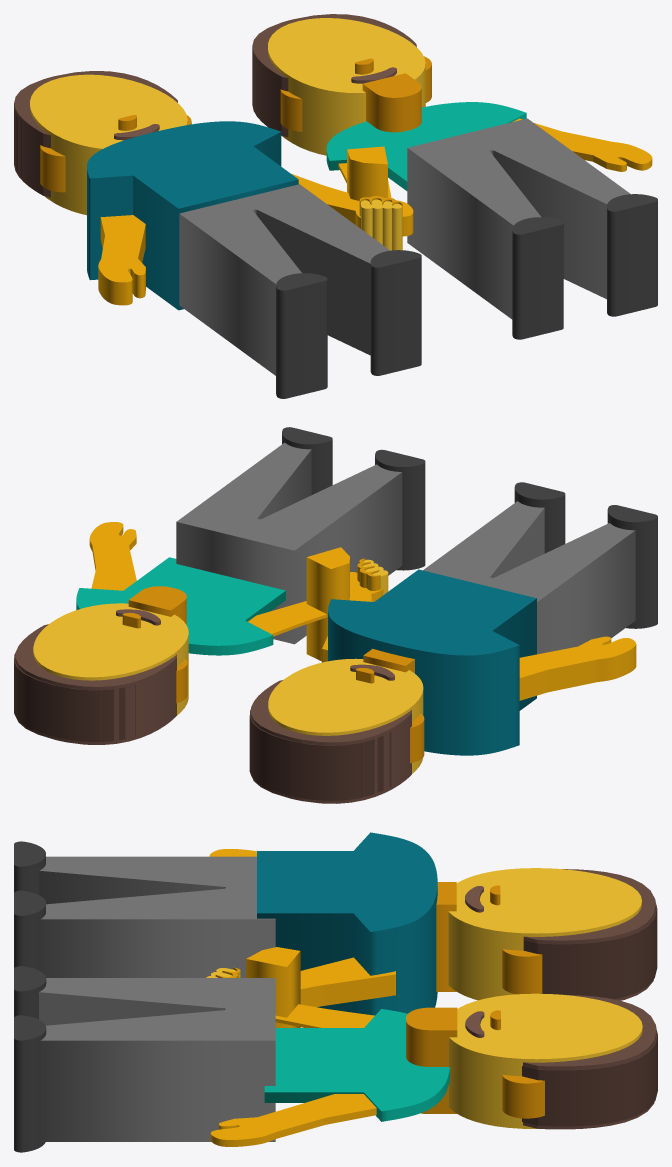
The model's file is emoji_u1f46c.glb.
3 renders of one model, top to bottom at view 1: azimuth 30°, elevation 25°; view 2: azimuth 150°, elevation 25°; view 3: azimuth 270°, elevation 25°, orthographic. The views are drawn at different scales.
Visible parts, largest first — view 1: emoji_u1f46c; view 2: emoji_u1f46c; view 3: emoji_u1f46c.
Boxes of the visible parts, x1,y1,x2,y2 form: emoji_u1f46c: (14, 14, 657, 398); emoji_u1f46c: (14, 427, 657, 803); emoji_u1f46c: (14, 832, 657, 1152).
Bounding box in the file's own units: 0.0346 × 0.0066 × 0.0334.
